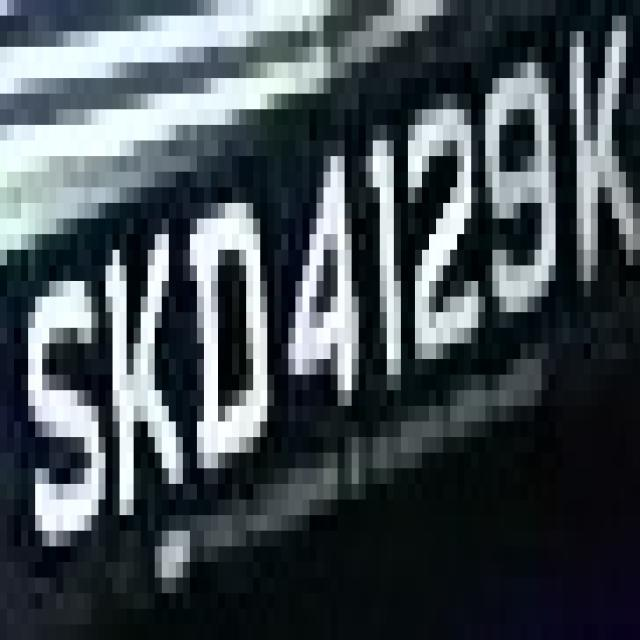1: (359, 78, 408, 422)
2: (394, 63, 499, 374)
4: (281, 140, 373, 422)
9: (478, 0, 563, 359)
D: (162, 203, 267, 499)
K: (91, 218, 204, 562), (549, 62, 633, 296)
S: (21, 218, 99, 546)
